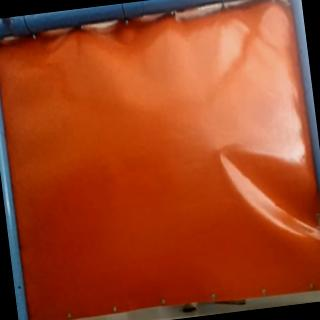Hit-hRxx: (209, 143, 231, 163)
